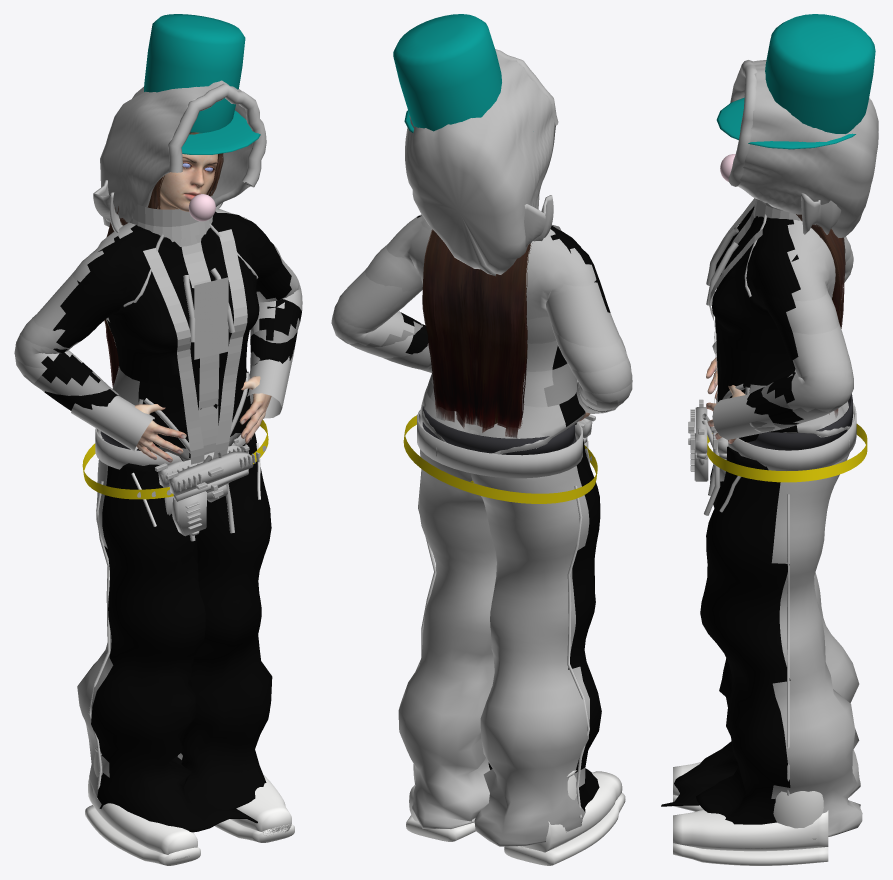
Rendered from avatar3d_f.glb.
3 renders of one model, left to right at view 1: azimuth 30°, elevation 25°; view 2: azimuth 150°, elevation 25°; view 3: azimuth 270°, elevation 25°, orthographic. The views are drawn at different scales.
Visible parts, largest first — view 1: g_bottom, g_jacket, g_jacket_open, g_hood_up, cap, g_zip_open, body, g_belt_gun, g_hood_up_rim, g_zip, shoe_upper_r, g_zip_pull (+15 smaller); view 2: g_bottom, g_hood_up, long01, g_jacket_open, g_jacket, cap, g_bottom_band, g_belt, g_underband, shoe_upper_r, shoe_sole_r, g_hood (+2 smaller); view 3: g_bottom, g_jacket_open, g_hood_up, g_jacket, cap, shoe_upper_l, g_bottom_band, shoe_sole_l, g_belt, g_hood_up_rim, g_jacket_cuff_l, g_underband (+12 smaller).
Part boxes in pixels (<box>): g_bottom: <box>77,433,272,832</box>; g_jacket: <box>15,209,302,461</box>; g_jacket_open: <box>14,217,297,461</box>; g_hood_up: <box>100,80,252,226</box>; cap: <box>144,14,245,133</box>; g_zip_open: <box>143,229,247,464</box>; body: <box>135,154,271,462</box>; g_belt_gun: <box>169,451,253,536</box>; g_hood_up_rim: <box>168,83,266,187</box>; g_zip: <box>181,234,219,454</box>; shoe_upper_r: <box>88,778,197,859</box>; g_zip_pull: <box>194,277,228,359</box>; g_bottom: <box>398,428,601,846</box>; g_hood_up: <box>405,55,555,276</box>; long01: <box>422,229,532,437</box>; g_jacket_open: <box>338,215,632,454</box>; g_jacket: <box>331,214,632,454</box>; cap: <box>393,14,501,131</box>; g_bottom_band: <box>417,410,582,478</box>; g_belt: <box>403,415,597,503</box>; g_underband: <box>422,405,574,455</box>; shoe_upper_r: <box>515,771,622,852</box>; shoe_sole_r: <box>504,793,625,865</box>; g_hood: <box>524,195,553,246</box>; g_bottom: <box>661,414,862,839</box>; g_jacket_open: <box>712,210,853,437</box>; g_hood_up: <box>738,60,878,237</box>; g_jacket: <box>715,206,853,437</box>; cap: <box>765,14,875,133</box>; shoe_upper_l: <box>673,809,828,851</box>; g_bottom_band: <box>728,402,856,470</box>; shoe_sole_l: <box>673,843,828,865</box>; g_belt: <box>707,424,867,482</box>; g_hood_up_rim: <box>728,60,757,186</box>; g_jacket_cuff_l: <box>712,394,789,439</box>; g_underband: <box>747,394,852,450</box>.
Bounding box in the file's own units: 0.7443 × 1.99 × 0.4775.
Materials: 69 (9 with a texture image).
